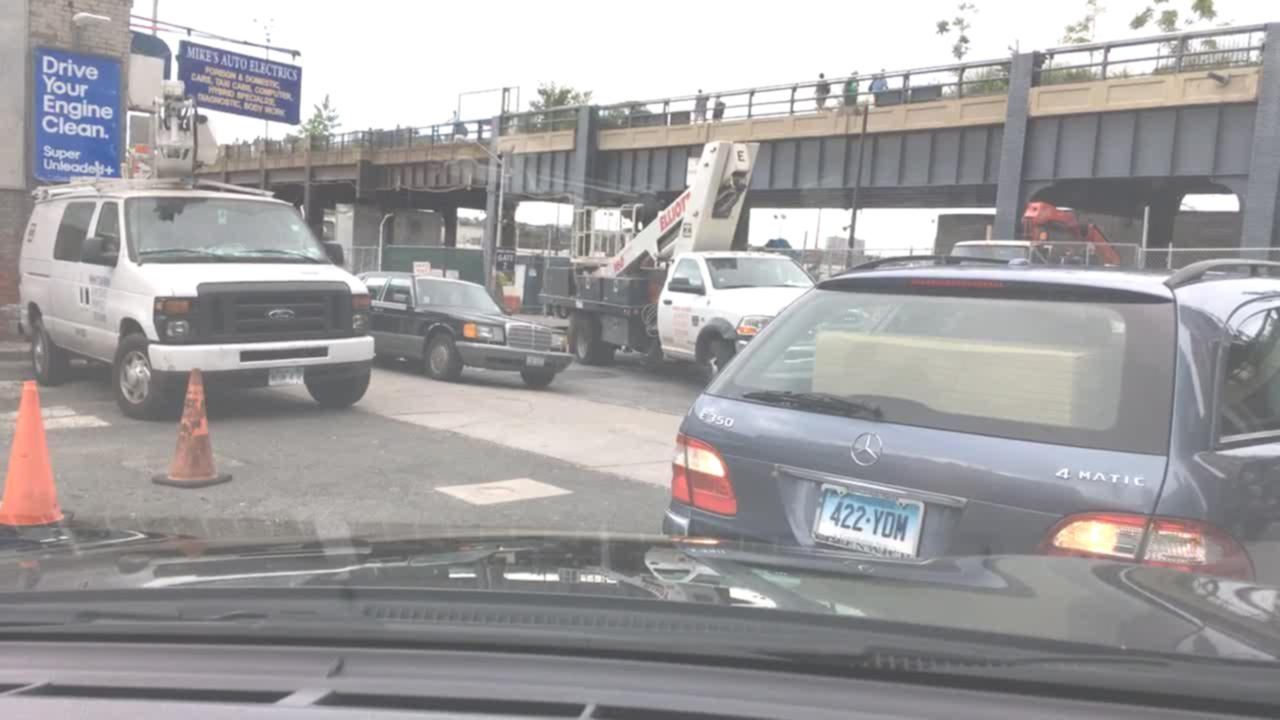Mercedes: (844, 430, 887, 470)
ford: (265, 308, 295, 323)
